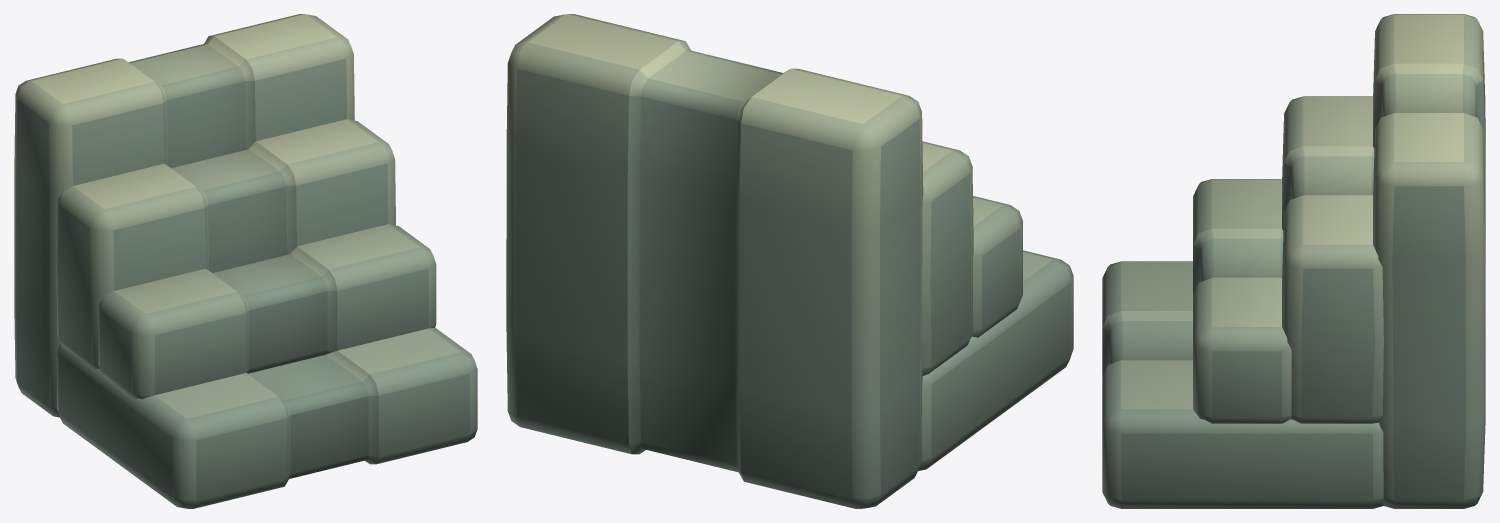
File: Stone_Free_Stair.fbx
3 views of the same model, side by side, from view 1: azimuth 30°, elevation 25°; view 2: azimuth 150°, elevation 25°; view 3: azimuth 270°, elevation 25° (orthographic). The views are drawn at different scales.
Visible parts, largest first — view 1: Stone_Free_Stair_LOD0; view 2: Stone_Free_Stair_LOD0; view 3: Stone_Free_Stair_LOD0.
Boxes of the visible parts, bbox=[...] form: Stone_Free_Stair_LOD0: bbox=[14, 14, 477, 508]; Stone_Free_Stair_LOD0: bbox=[506, 14, 1073, 508]; Stone_Free_Stair_LOD0: bbox=[1102, 14, 1485, 508].
Size of what is drawn, in the model's own units: 1.06 by 1.05 by 1.05.
